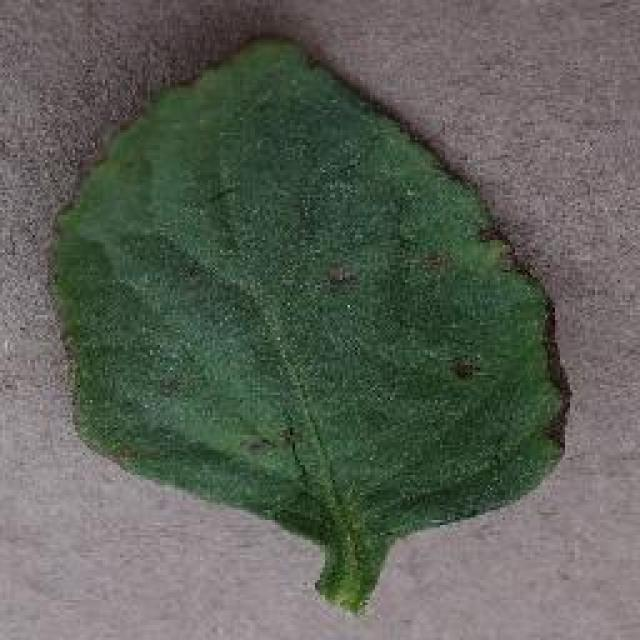Tomato bacterial spot leaf: (44, 34, 578, 604)
